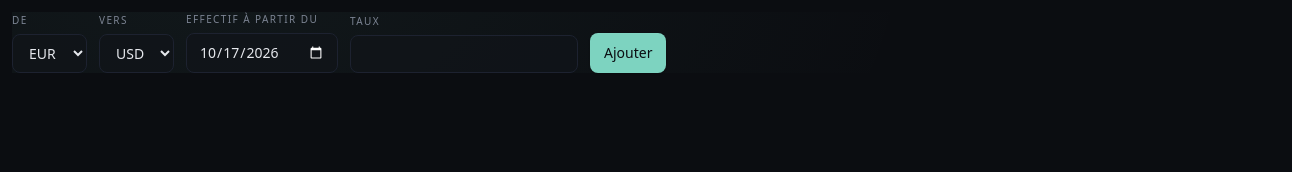
Scenario: AddRateForm › rejects submit when from and to currencies are the same
Select "USD" in the dropdown labelled "De": (50, 54) [12, 34, 87, 73]
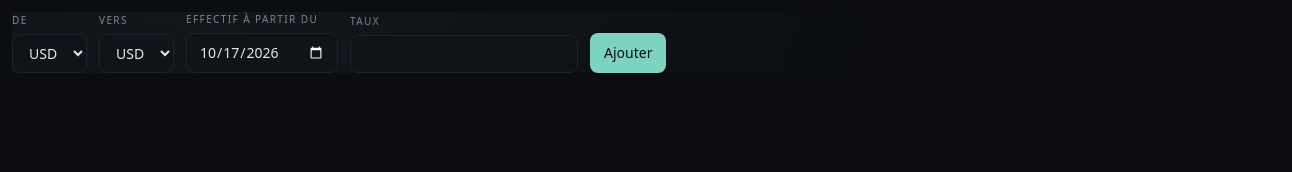
Select "USD" in the dropdown labelled "Vers": (136, 54) [99, 34, 174, 73]
In the date field labelled "Effectif à partir du": (262, 53) [186, 33, 338, 73], type "2026-01-01"
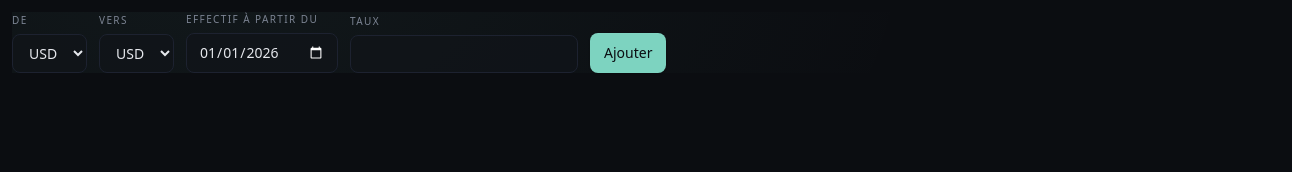
In the field labelled "Taux": (464, 54) [350, 35, 578, 73], type "1"
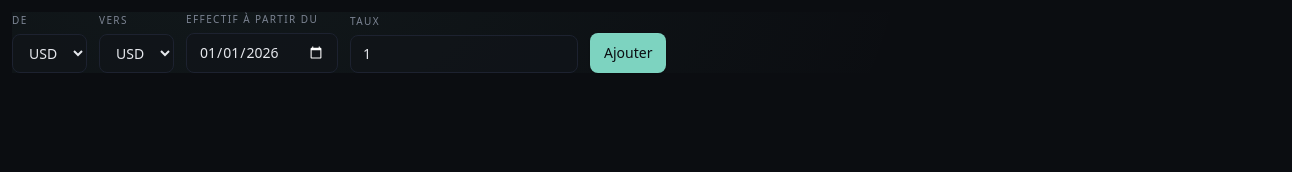
Click the button "Ajouter": (628, 53) [590, 33, 666, 73]
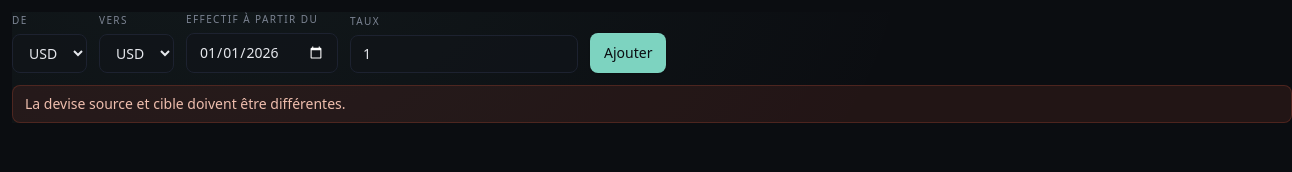
Now the text "La devise source et cible doivent être différentes." is shown, box [12, 85, 1291, 123]
